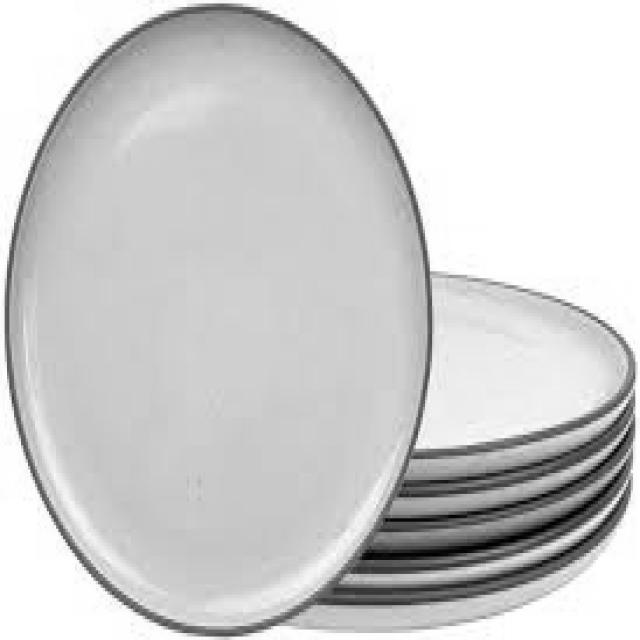dish: (11, 7, 452, 633)
